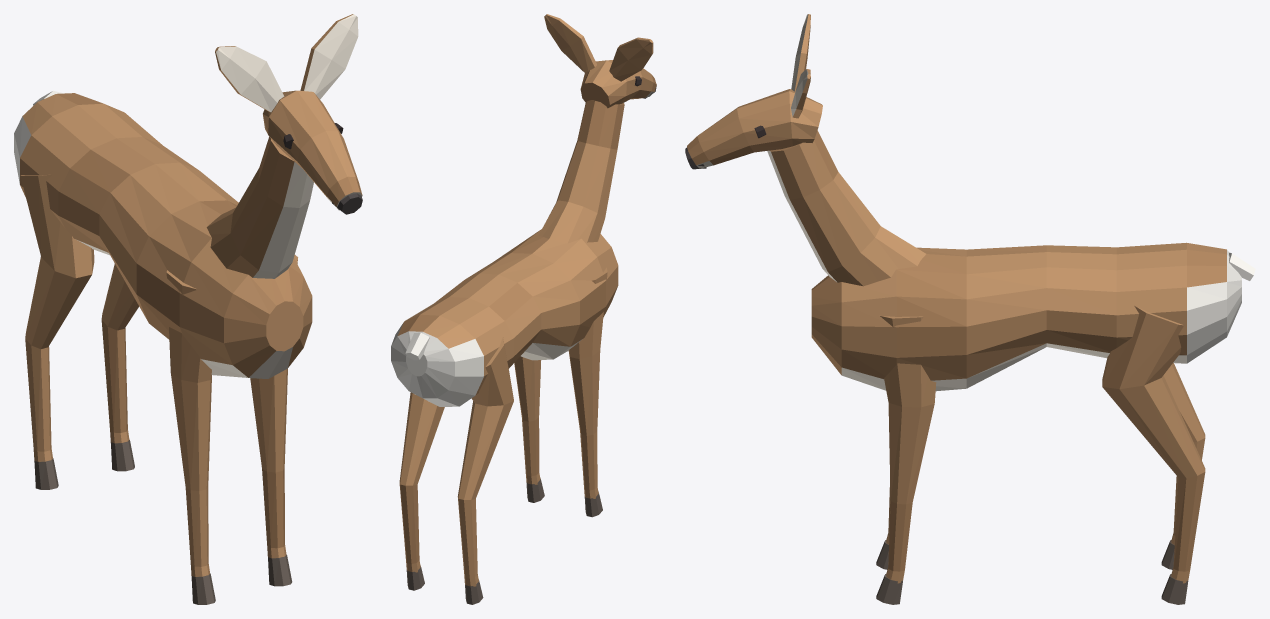
The model's file is deer_female.glb.
3 renders of one model, left to right at view 1: azimuth 30°, elevation 25°; view 2: azimuth 150°, elevation 25°; view 3: azimuth 270°, elevation 25°, orthographic. The views are drawn at different scales.
Visible parts, largest first — view 1: Body, Leg.BR, Head.Neck, Leg.FR, Head.Skull, Leg.FL, Leg.BL, Head.Ear, Head.Ear#2, Leg.BR.Hoof, Leg.FL.Hoof, Leg.BL.Hoof (+1 smaller); view 2: Body, Head.Neck, Leg.BR, Leg.BL, Leg.FR, Leg.FL, Head.Skull, Head.Ear, Head.Ear#2, Body.Tail; view 3: Body, Leg.BL, Head.Neck, Leg.FL, Head.Skull, Leg.BR.
Boxes of the visible parts, x1,y1,x2,y2 form: Body: (14, 93, 312, 378); Leg.BR: (20, 174, 94, 462); Head.Neck: (206, 136, 313, 278); Leg.FR: (166, 270, 211, 576); Head.Skull: (263, 90, 362, 210); Leg.FL: (250, 255, 297, 558); Leg.BL: (101, 263, 138, 443); Head.Ear: (300, 14, 358, 99); Head.Ear#2: (215, 46, 284, 112); Leg.BR.Hoof: (34, 458, 58, 489); Leg.FL.Hoof: (268, 554, 292, 586); Leg.BL.Hoof: (111, 439, 134, 471); Body: (391, 229, 618, 406); Head.Neck: (538, 100, 624, 243); Leg.BR: (457, 337, 513, 586); Leg.BL: (399, 392, 444, 572); Leg.FR: (568, 267, 607, 498); Leg.FL: (514, 356, 541, 484); Head.Skull: (580, 60, 656, 108); Head.Ear: (544, 14, 596, 72); Head.Ear#2: (609, 37, 653, 81); Body.Tail: (405, 332, 429, 360); Body: (811, 242, 1241, 391); Leg.BL: (1102, 306, 1205, 583); Head.Neck: (767, 130, 925, 286); Leg.FL: (880, 316, 936, 583); Head.Skull: (687, 89, 822, 168); Leg.BR: (1163, 363, 1205, 544).
Size of the model in its own units: 0.2975 by 1.19 by 1.14.
